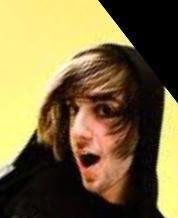face: (66, 96, 120, 174)
